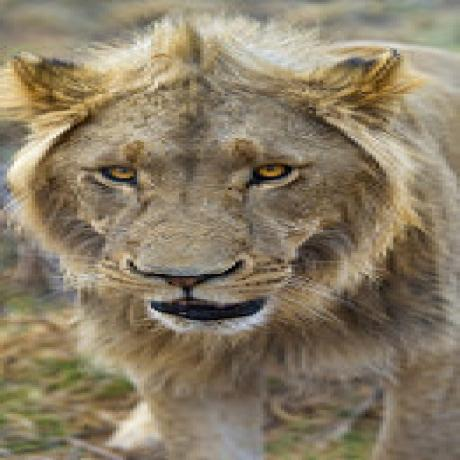Lion: (0, 9, 460, 460)
